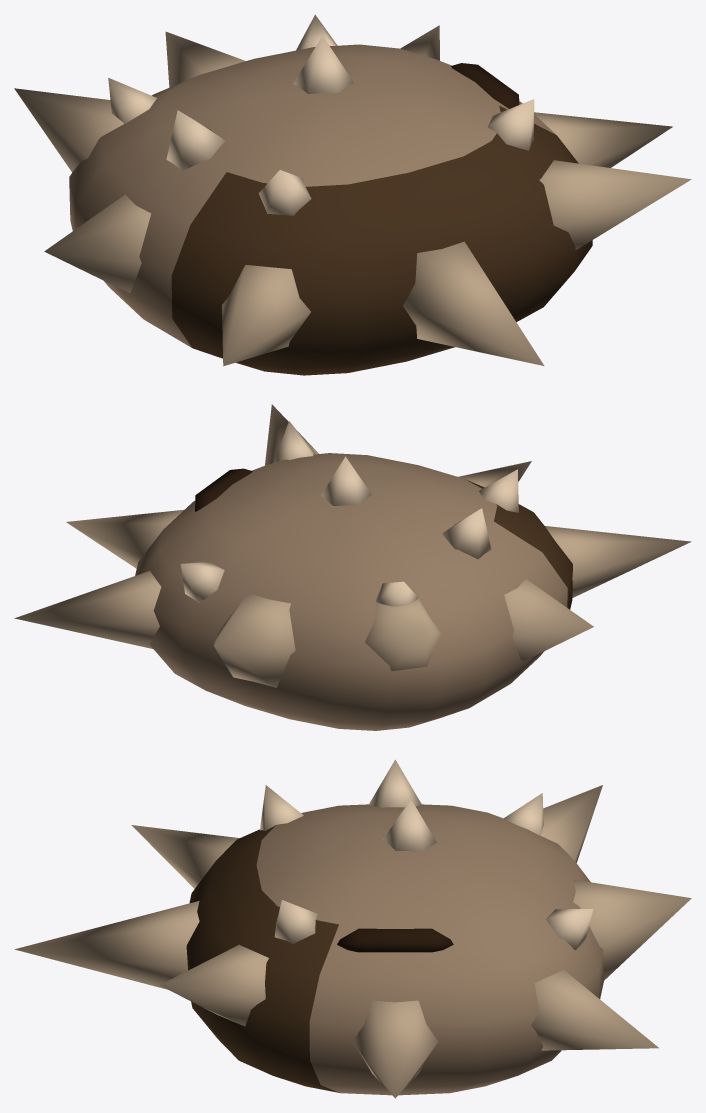
File: newshe-201-f3.glb
3 renders of one model, top to bottom at view 1: azimuth 30°, elevation 25°; view 2: azimuth 150°, elevation 25°; view 3: azimuth 270°, elevation 25°, orthographic. The views are drawn at different scales.
Visible parts, largest first — view 1: newshe-201-f3; view 2: newshe-201-f3; view 3: newshe-201-f3.
Part boxes in pixels (left/top/right/bottom): newshe-201-f3: left=14, top=14, right=691, bottom=375; newshe-201-f3: left=14, top=404, right=691, bottom=730; newshe-201-f3: left=14, top=759, right=691, bottom=1098.
Bounding box in the file's own units: 1.92 × 0.7691 × 2.
